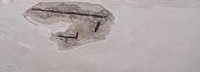Exposed reinforcement: (30, 7, 107, 19), (57, 31, 79, 40), (94, 20, 101, 33)
Spalling: (22, 1, 116, 52)
